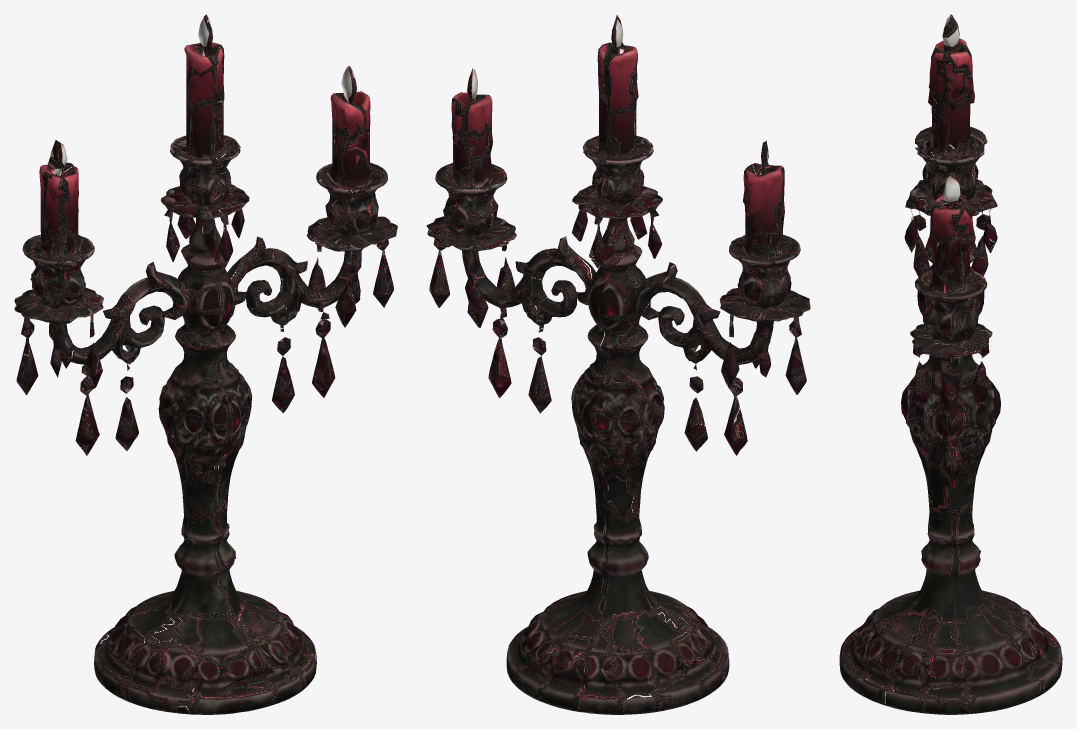
File: roseCandelabra.glb
3 views of the same model, side by side, from view 1: azimuth 30°, elevation 25°; view 2: azimuth 150°, elevation 25°; view 3: azimuth 270°, elevation 25° (orthographic).
Bounding box in the file's own units: 1.15 × 1.9 × 0.5865.
Materials: 1 (1 with a texture image).
